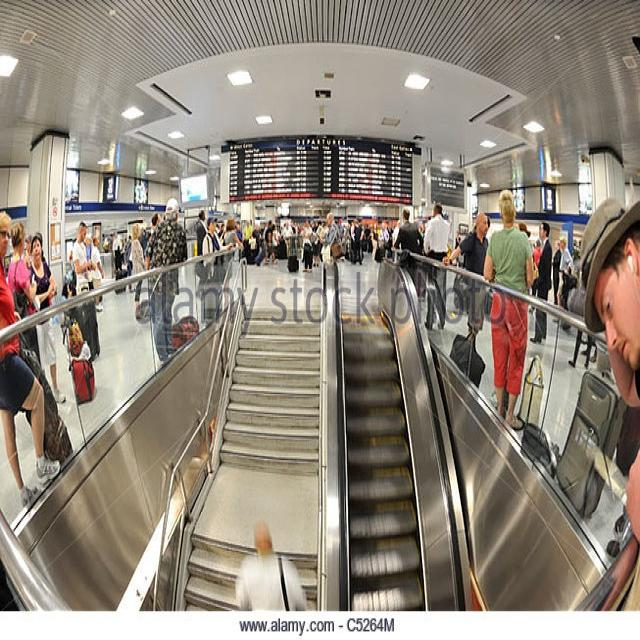body: (576, 192, 639, 612), (0, 207, 63, 509), (482, 186, 536, 432), (144, 197, 189, 364), (28, 233, 68, 407), (234, 519, 309, 611), (441, 210, 490, 335), (6, 218, 41, 352), (84, 212, 167, 264), (422, 201, 452, 331), (337, 215, 401, 268), (528, 220, 554, 345), (393, 206, 425, 290), (201, 214, 233, 282), (70, 219, 97, 296), (453, 215, 492, 268), (221, 216, 245, 280), (272, 220, 305, 263), (316, 210, 341, 265), (555, 234, 574, 306), (130, 223, 147, 303), (90, 233, 106, 312), (241, 222, 266, 268), (62, 249, 79, 315), (550, 236, 563, 308), (311, 215, 327, 268), (302, 217, 315, 275), (262, 219, 278, 266), (195, 208, 210, 258), (111, 229, 125, 282), (516, 220, 535, 250), (531, 239, 544, 272), (122, 262, 134, 296), (412, 216, 430, 237), (21, 233, 32, 253)
